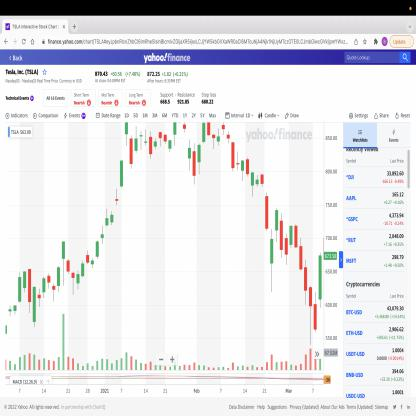Bearish: 3 Black Crows: (298, 236, 312, 347), (303, 258, 318, 347), (294, 222, 308, 308)
Bearish: Tweezer Top: (288, 223, 299, 250)
Bullish: Hammer: (47, 263, 61, 305)
